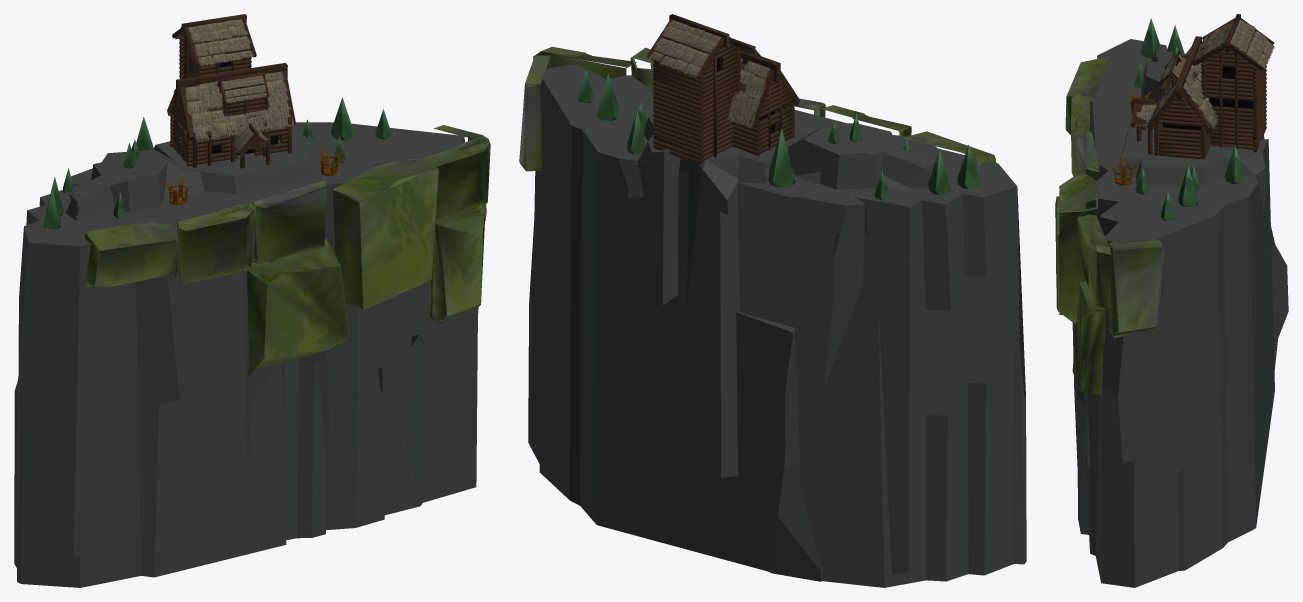
File: townhall.glb
The picture shows the model from 3 angles, left to right: view 1: azimuth 30°, elevation 25°; view 2: azimuth 150°, elevation 25°; view 3: azimuth 270°, elevation 25°; orthographic projection. The views are drawn at different scales.
Visible parts, largest first — view 1: townhall; view 2: townhall; view 3: townhall.
Boxes of the visible parts, left/top/right/bottom form: townhall: left=14, top=14, right=490, bottom=587; townhall: left=519, top=14, right=1026, bottom=587; townhall: left=1055, top=14, right=1288, bottom=587.
Size of the model in its own units: 3.17 by 3.07 by 1.41.
7 materials, 3 textured.
